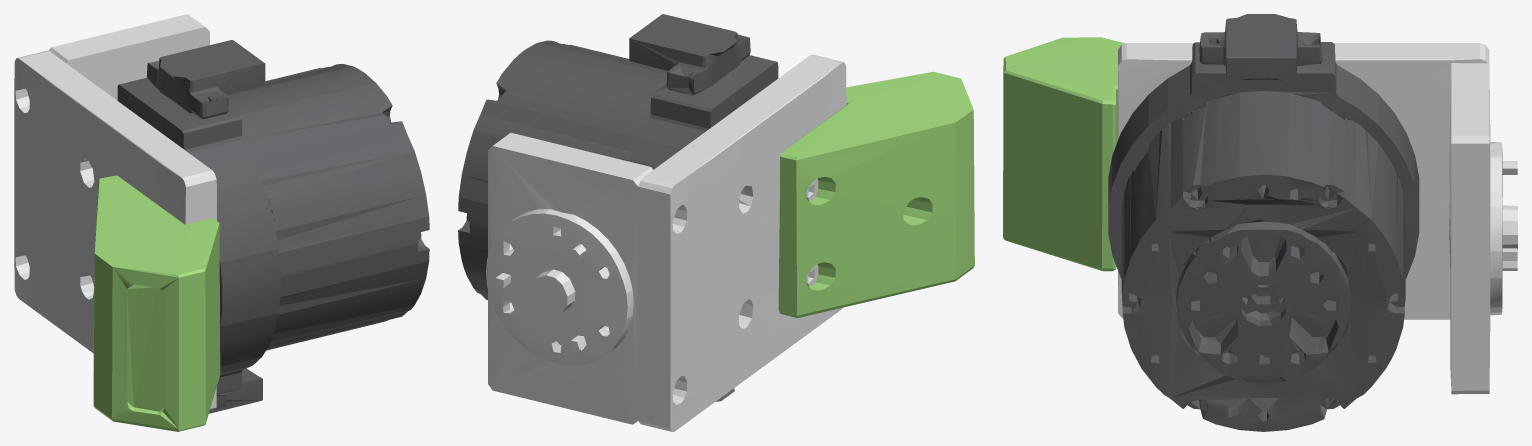
The picture shows the model from 3 angles, left to right: view 1: azimuth 30°, elevation 25°; view 2: azimuth 150°, elevation 25°; view 3: azimuth 270°, elevation 25°; orthographic projection. The views are drawn at different scales.
Parts seen in each view (by area): view 1: link5_visual; view 2: link5_visual; view 3: link5_visual.
Boxes of the visible parts, box(x1,y1,x2,y2) form: link5_visual: box(14, 14, 429, 431); link5_visual: box(458, 14, 974, 431); link5_visual: box(1003, 14, 1517, 431).
Bounding box in the file's own units: 0.0879 × 0.0815 × 0.1034.
